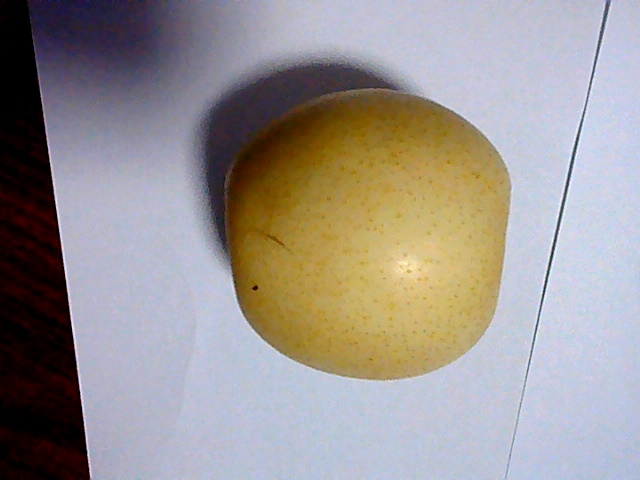pear: (218, 92, 516, 382)
